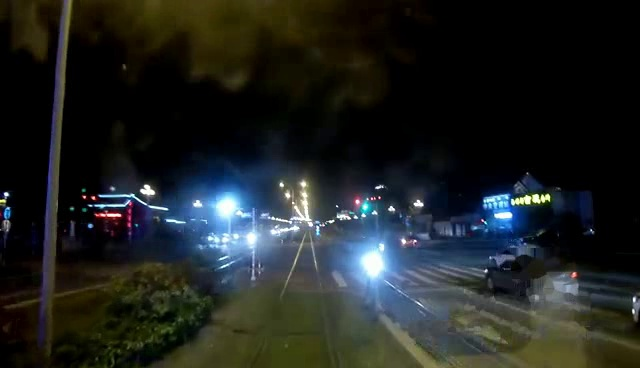car: (481, 255, 586, 302), (395, 231, 429, 251)
